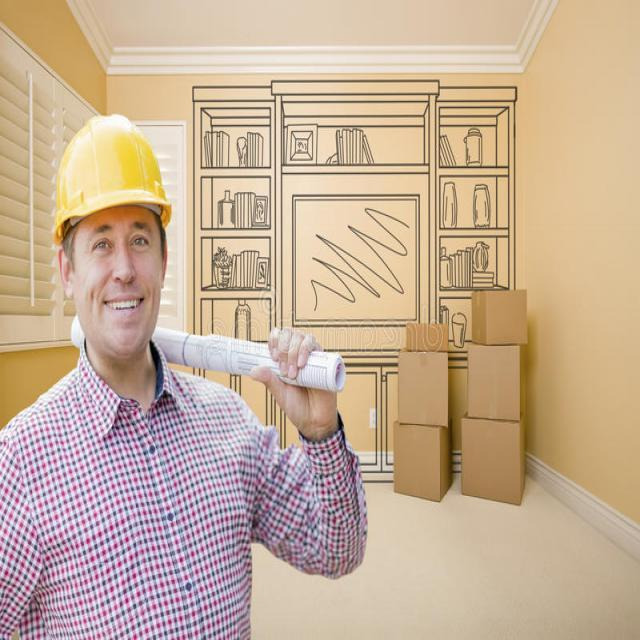safetyhelmet: (38, 104, 172, 370)
